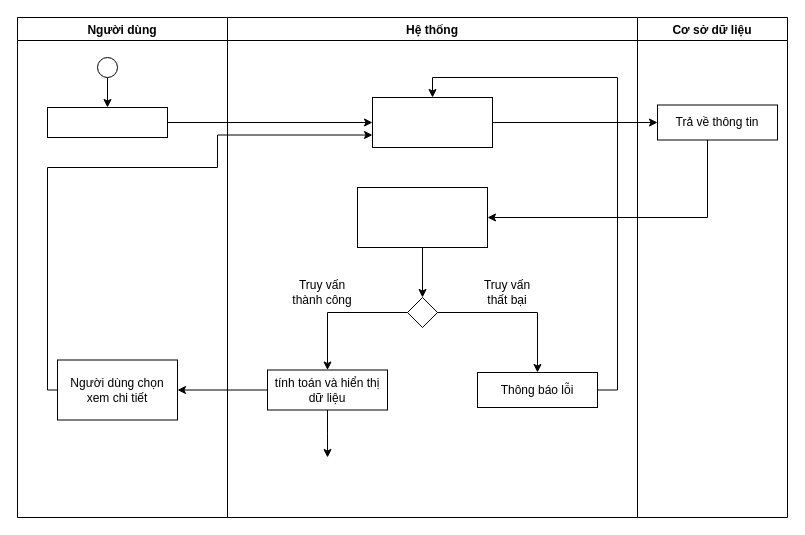
Some shapes in this 805 by 535 pixel diagram are drawn without their labels. The box of each missing label's shape, as (x1, y1, x2, y2) in pixels:
Hệ thống nhận dữ liệu: (356, 186, 488, 248)
Theo dõi tiến độ học: (46, 106, 168, 138)
Truy vấn CSDL: (372, 96, 492, 148)
